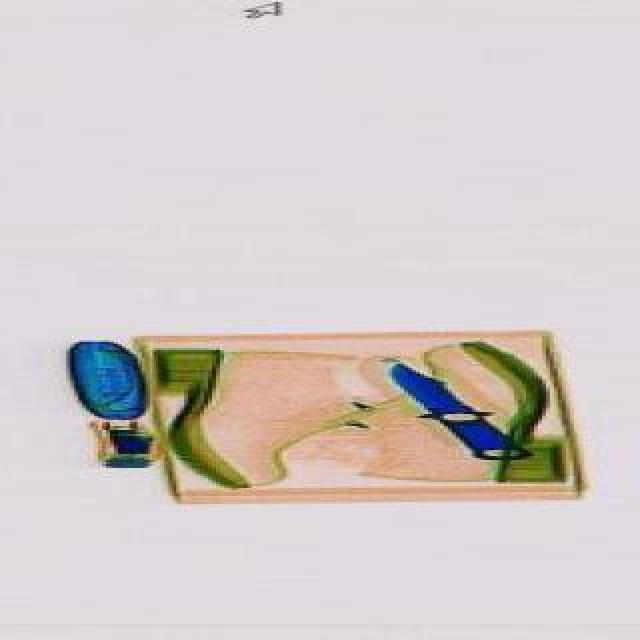knife: (382, 340, 542, 488)
